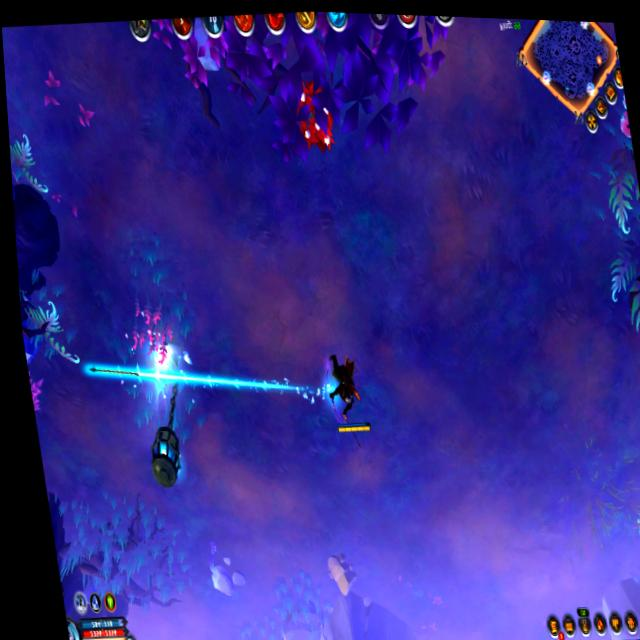10: (128, 346, 209, 494)
hide: (283, 74, 344, 163)
red: (317, 346, 376, 443)
